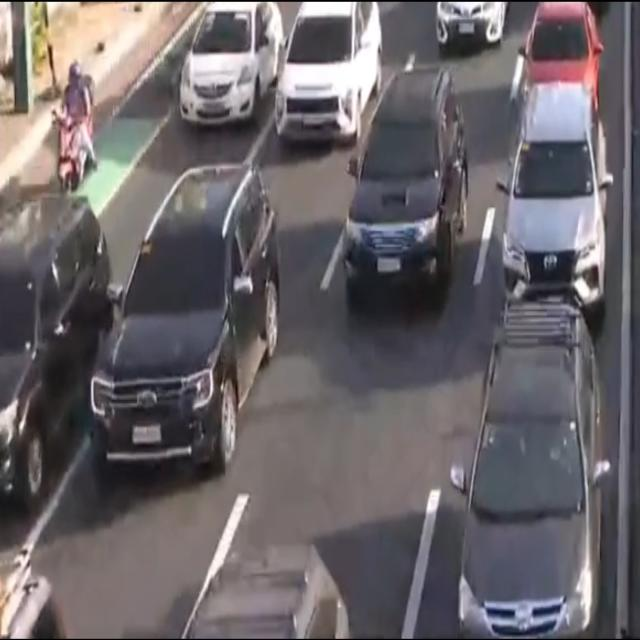Motorcycle: (54, 59, 98, 189)
SUV: (89, 166, 280, 494), (451, 318, 603, 640), (340, 75, 471, 318), (0, 183, 98, 497), (500, 94, 610, 306), (276, 0, 384, 146), (434, 0, 508, 55)
Sedan: (176, 0, 286, 130), (521, 0, 603, 90)
